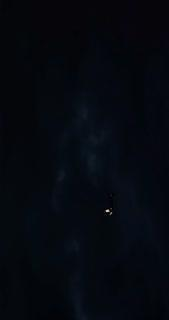Plane: (98, 201, 118, 221)
